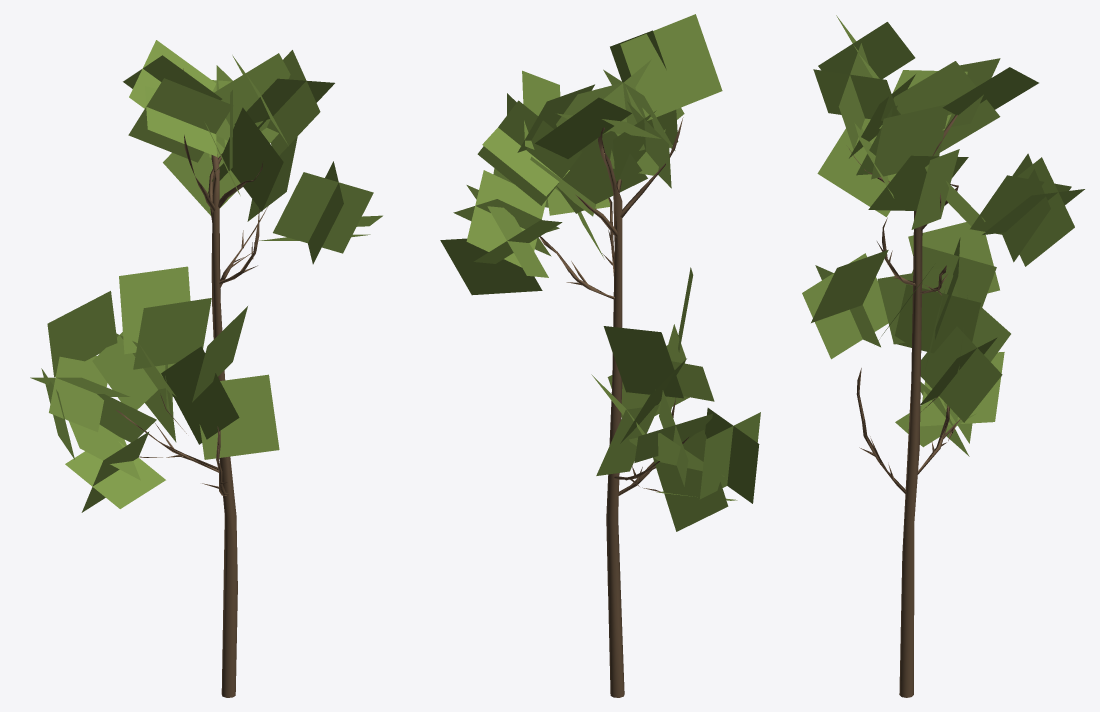
Rendered from meadow-aspen-b.lod2.glb.
3 renders of one model, left to right at view 1: azimuth 30°, elevation 25°; view 2: azimuth 150°, elevation 25°; view 3: azimuth 270°, elevation 25°, orthographic.
Visible parts, largest first — view 1: leaves, bark; view 2: leaves, bark; view 3: leaves, bark.
Boxes of the visible parts, box(x1,y1,x2,y2) form: leaves: box(30, 40, 382, 512); bark: box(115, 68, 267, 697); leaves: box(440, 14, 760, 531); bark: box(539, 117, 688, 697); leaves: box(802, 15, 1084, 456); bark: box(849, 115, 960, 697).
Bounding box in the file's own units: 19.37 × 37.5 × 14.67.
